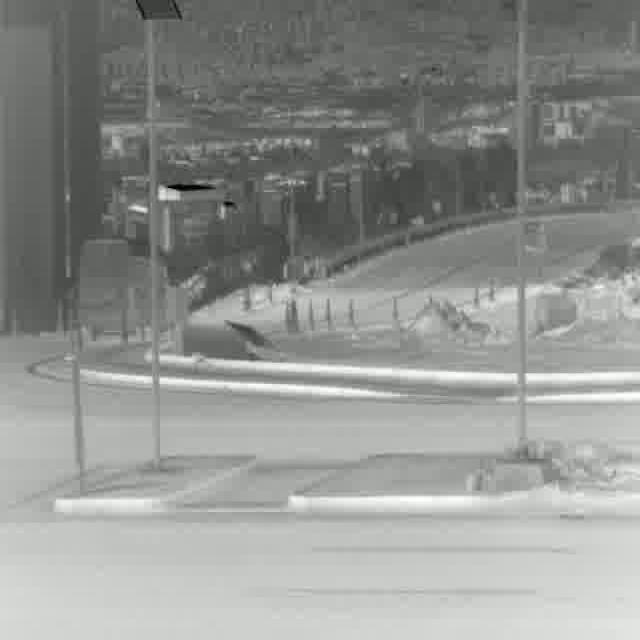Car: (78, 239, 168, 342), (523, 220, 551, 256)
